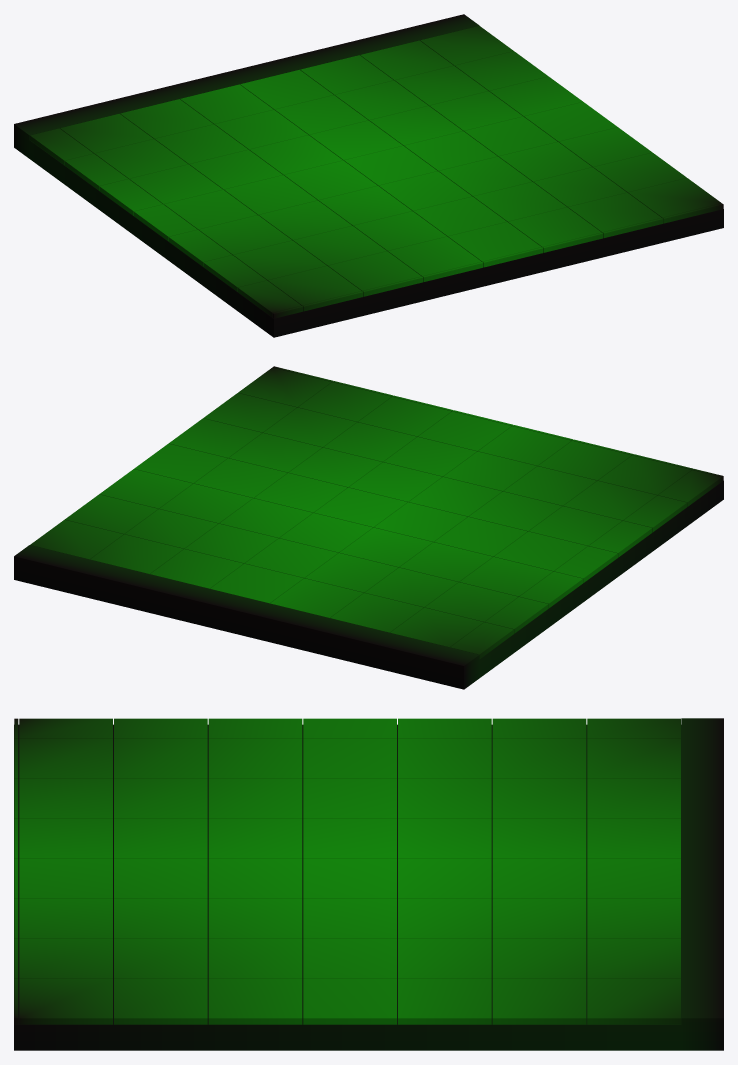
The model's file is via_he_junction.glb.
3 views of the same model, one above another, from view 1: azimuth 30°, elevation 25°; view 2: azimuth 150°, elevation 25°; view 3: azimuth 270°, elevation 25° (orthographic). The views are drawn at different scales.
Visible parts, largest first — view 1: via_he_junction; view 2: via_he_junction; view 3: via_he_junction.
Part boxes in pixels (x1,y1,x2,y2): via_he_junction: (14, 14, 723, 337); via_he_junction: (14, 366, 723, 689); via_he_junction: (14, 718, 723, 1050).
Bounding box in the file's own units: 3 × 0.15 × 3.
